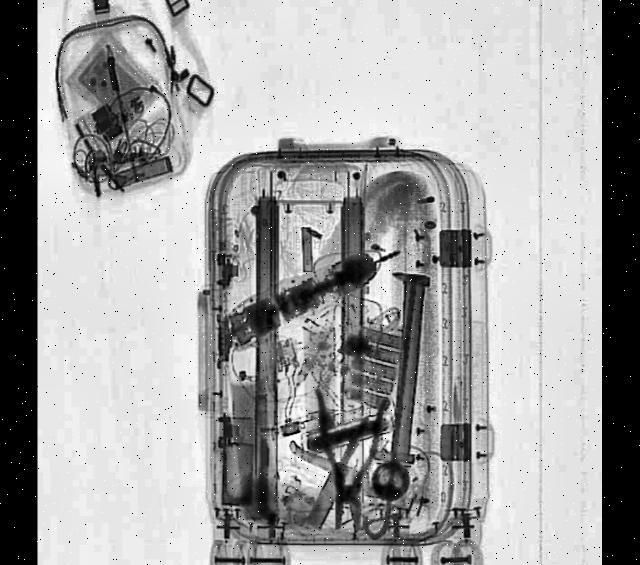Pliers: (312, 385, 391, 534)
